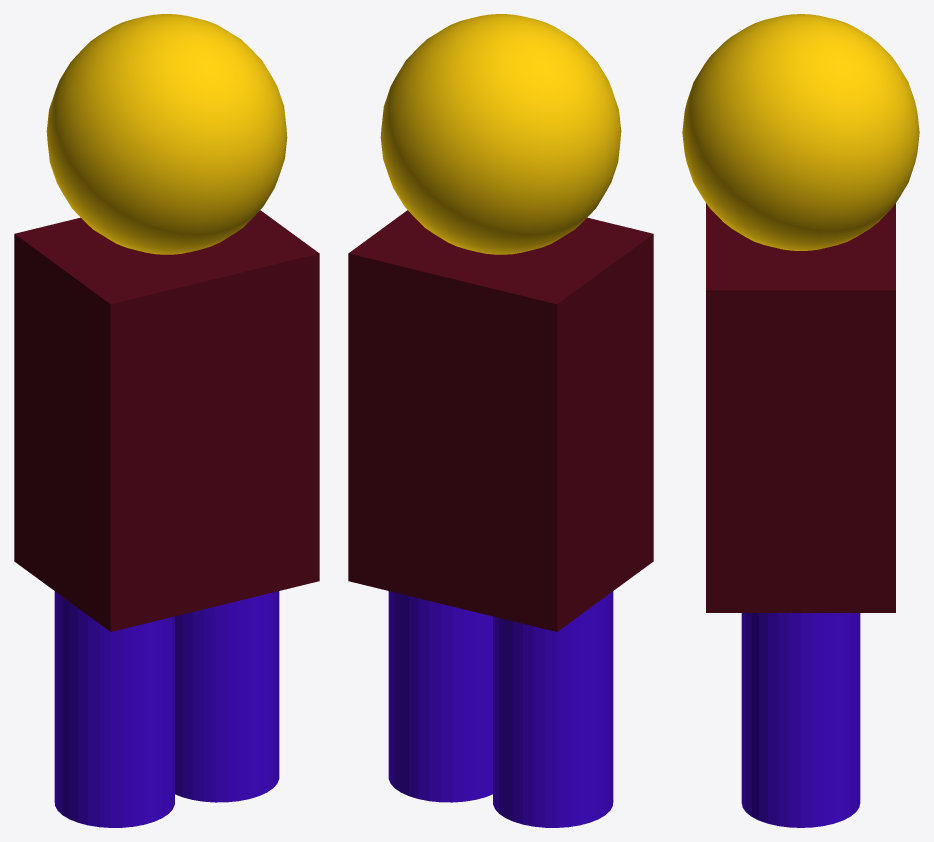
Rendered from body4.dae.
3 views of the same model, side by side, from view 1: azimuth 30°, elevation 25°; view 2: azimuth 150°, elevation 25°; view 3: azimuth 270°, elevation 25° (orthographic).
Parts seen in each view (by area): view 1: Sphere.001; view 2: Sphere.001; view 3: Sphere.001.
Part boxes in pixels (x1,y1,x2,y2): Sphere.001: (14,14,319,827); Sphere.001: (348,14,653,827); Sphere.001: (682,14,919,827).
Size of the model in its own units: 0.6 by 0.6 by 2.1.
